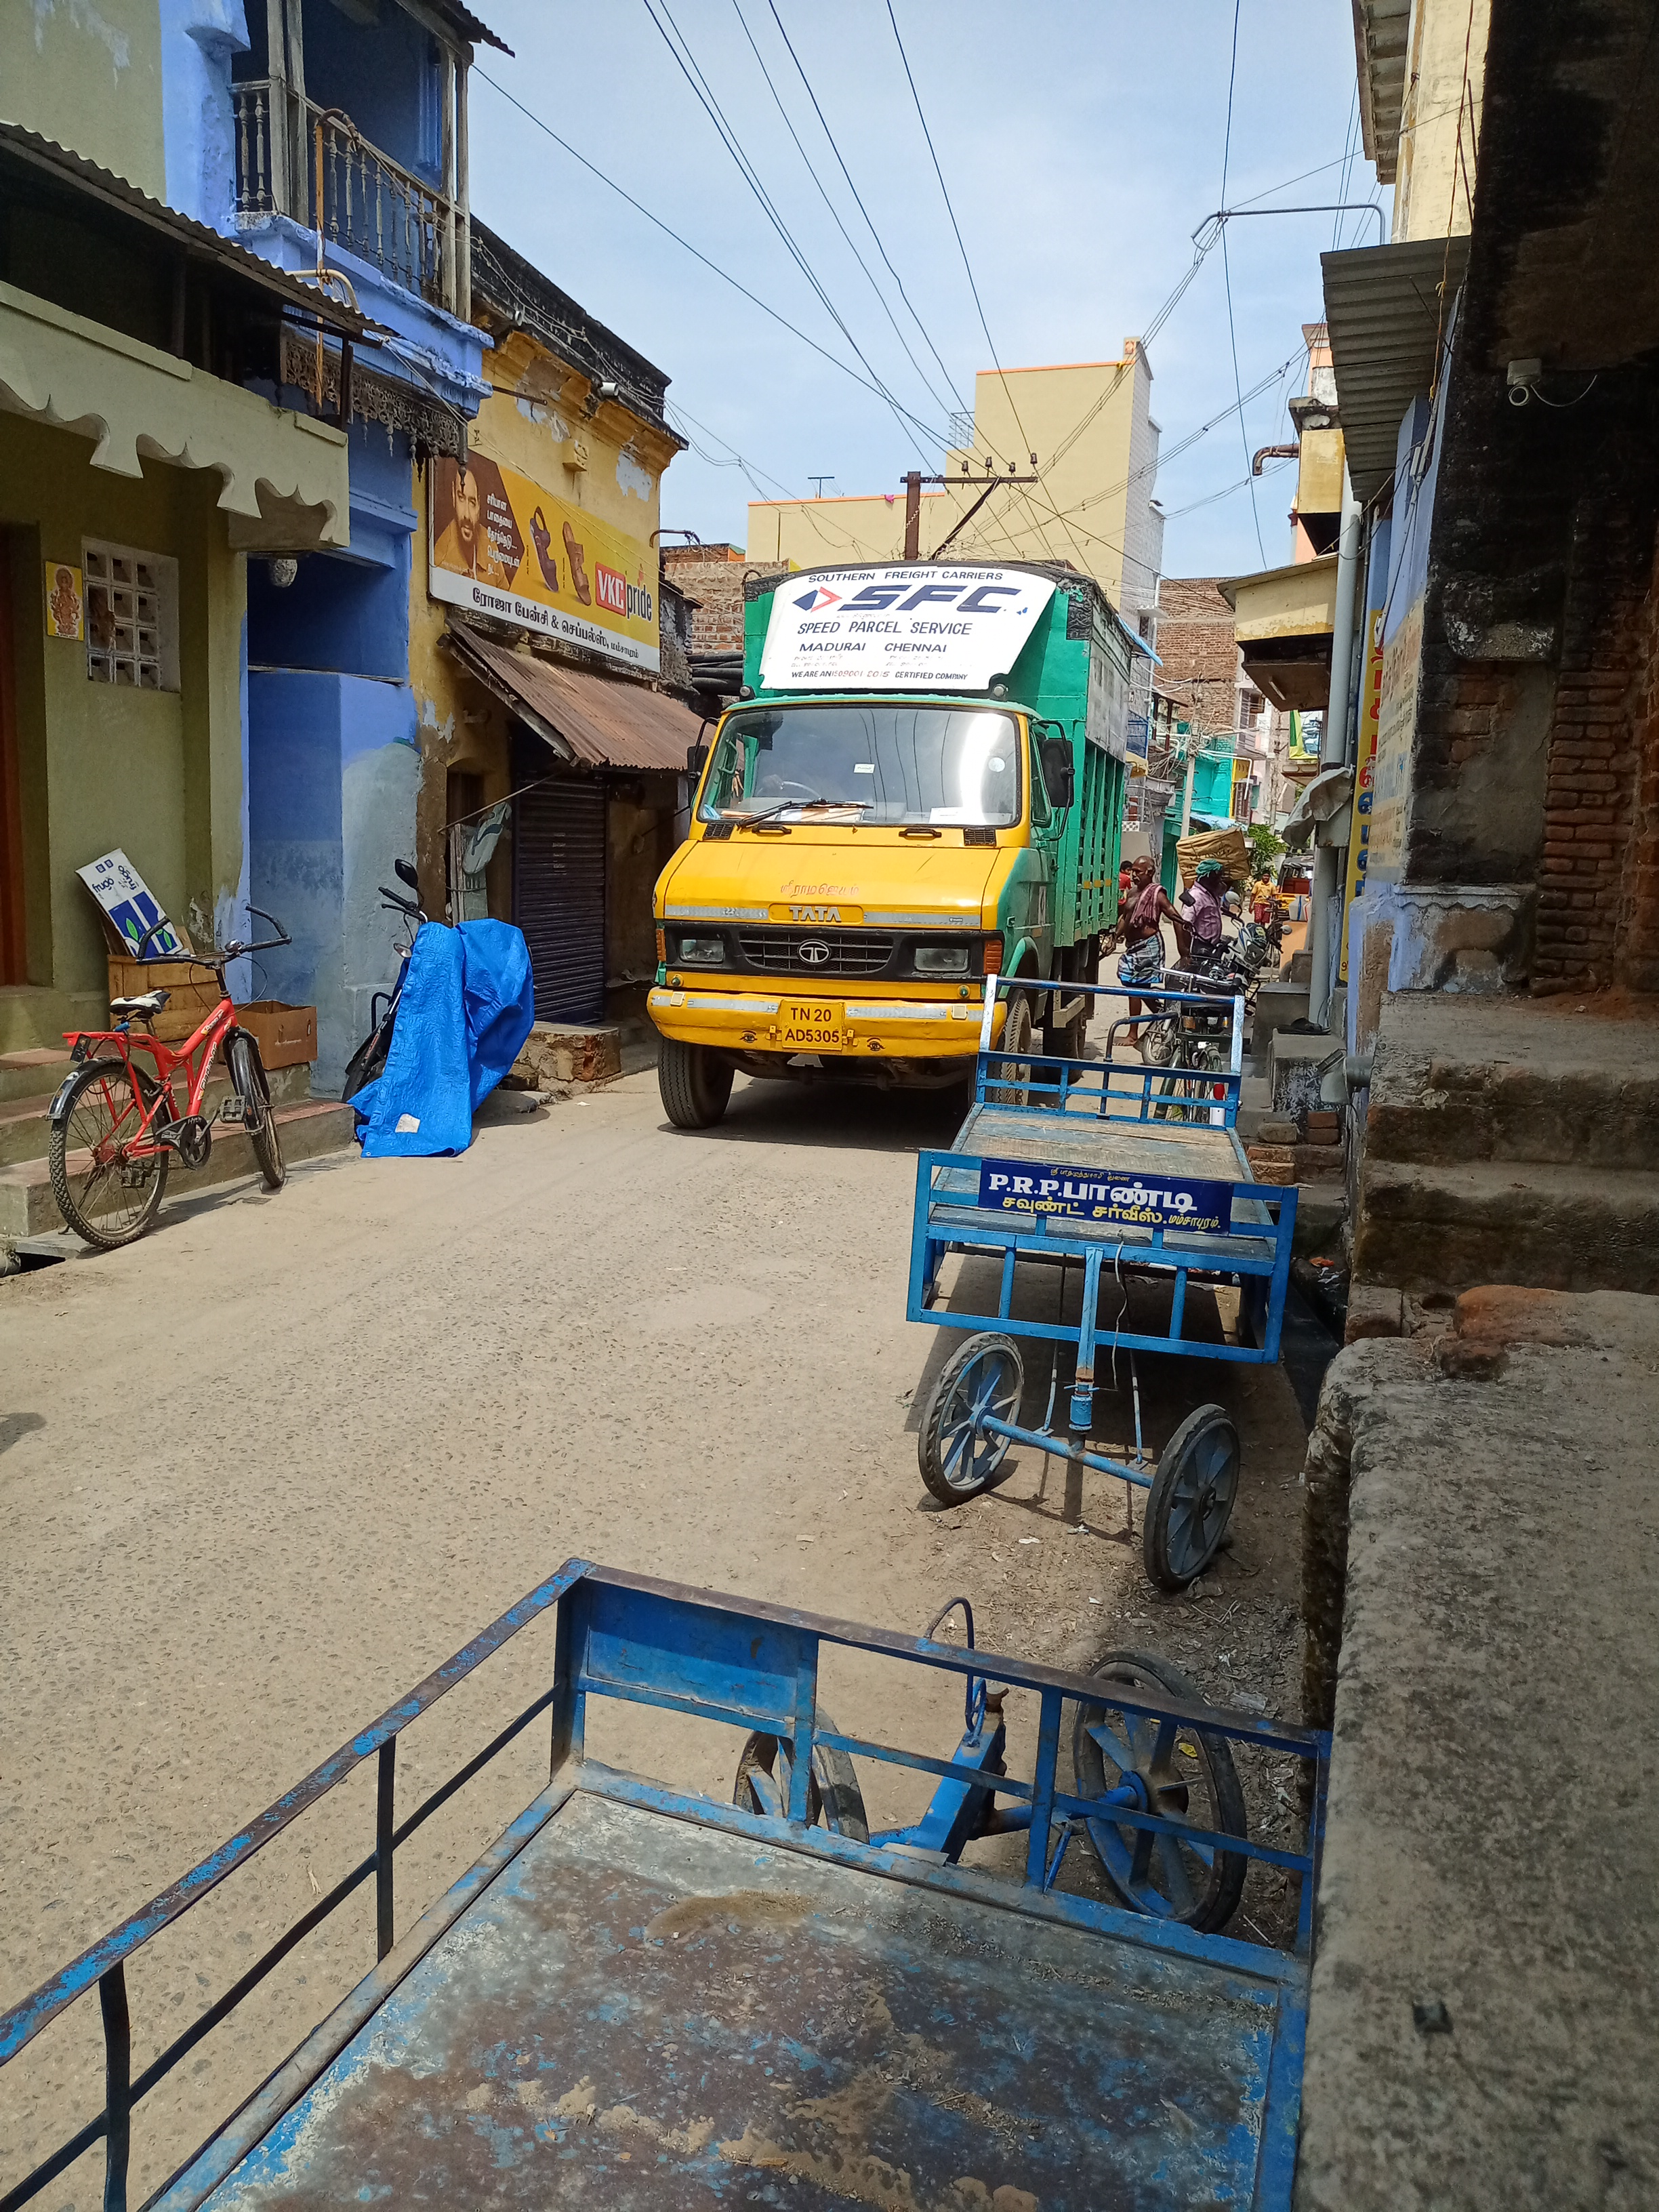truck: (645, 556, 1134, 1130)
